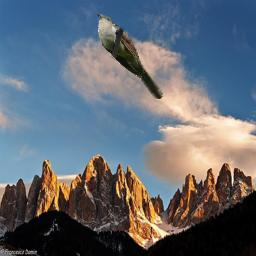Cuckoo: (97, 13, 163, 99)
